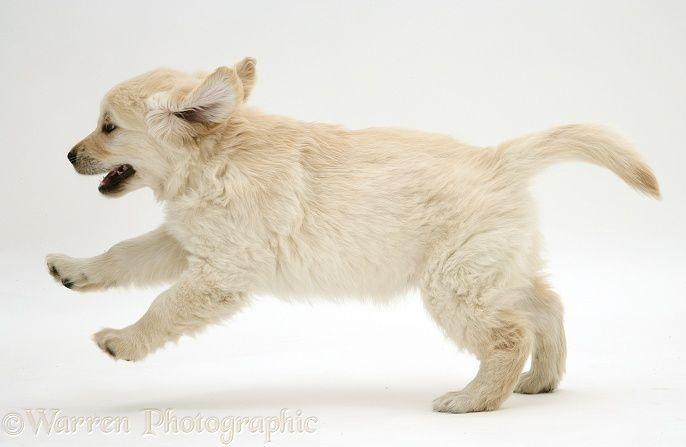puppy-dog: (45, 51, 666, 419)
